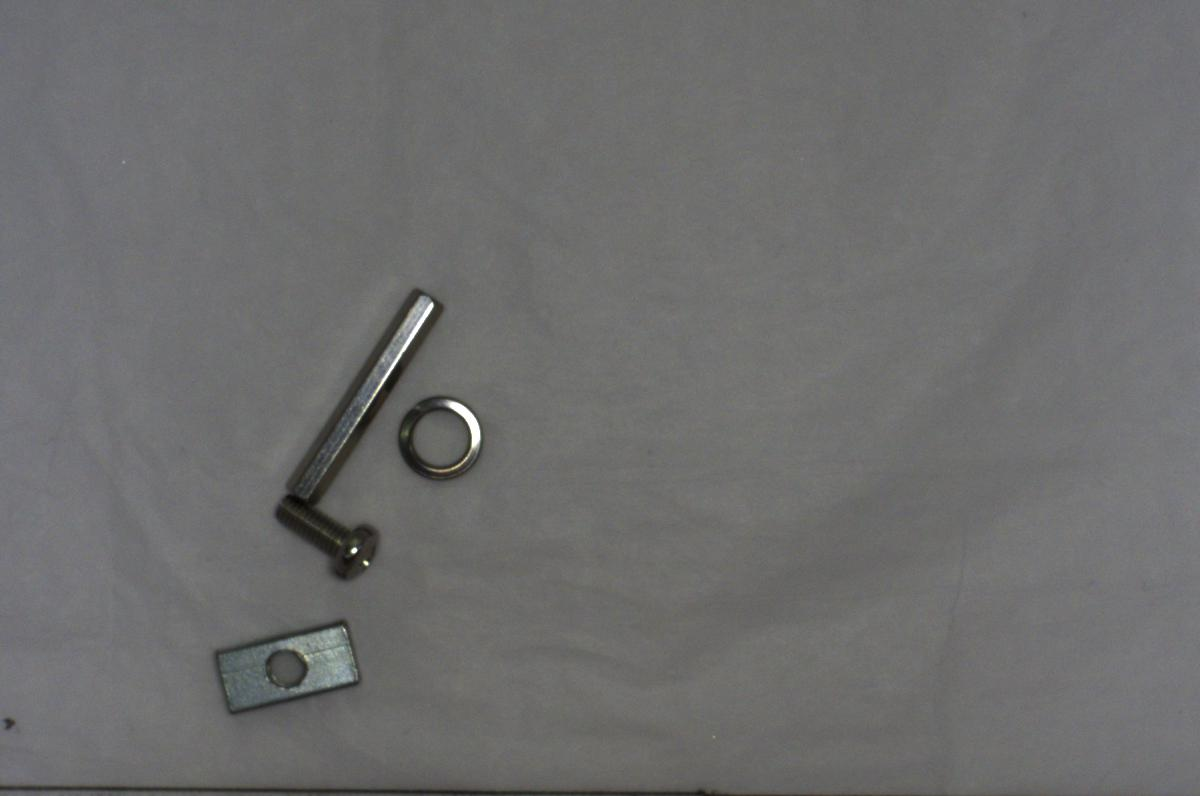Double hexagonal column: (284, 275, 444, 498)
Rectangular nut: (208, 613, 362, 716)
Round head screw: (266, 488, 391, 585)
Spring washer: (385, 387, 482, 481)
